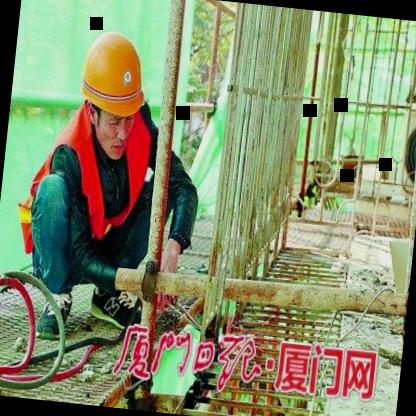helmet: (64, 16, 158, 167)
